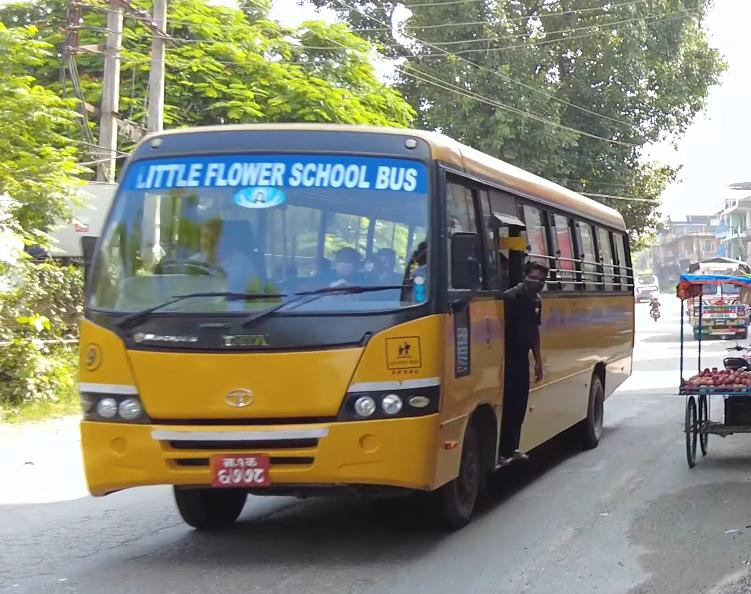school_bus: (75, 112, 652, 533)
